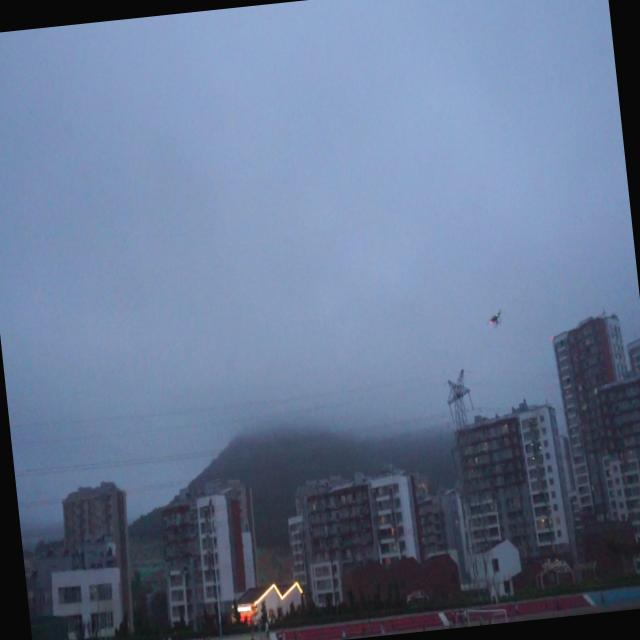drone: (484, 307, 506, 330)
